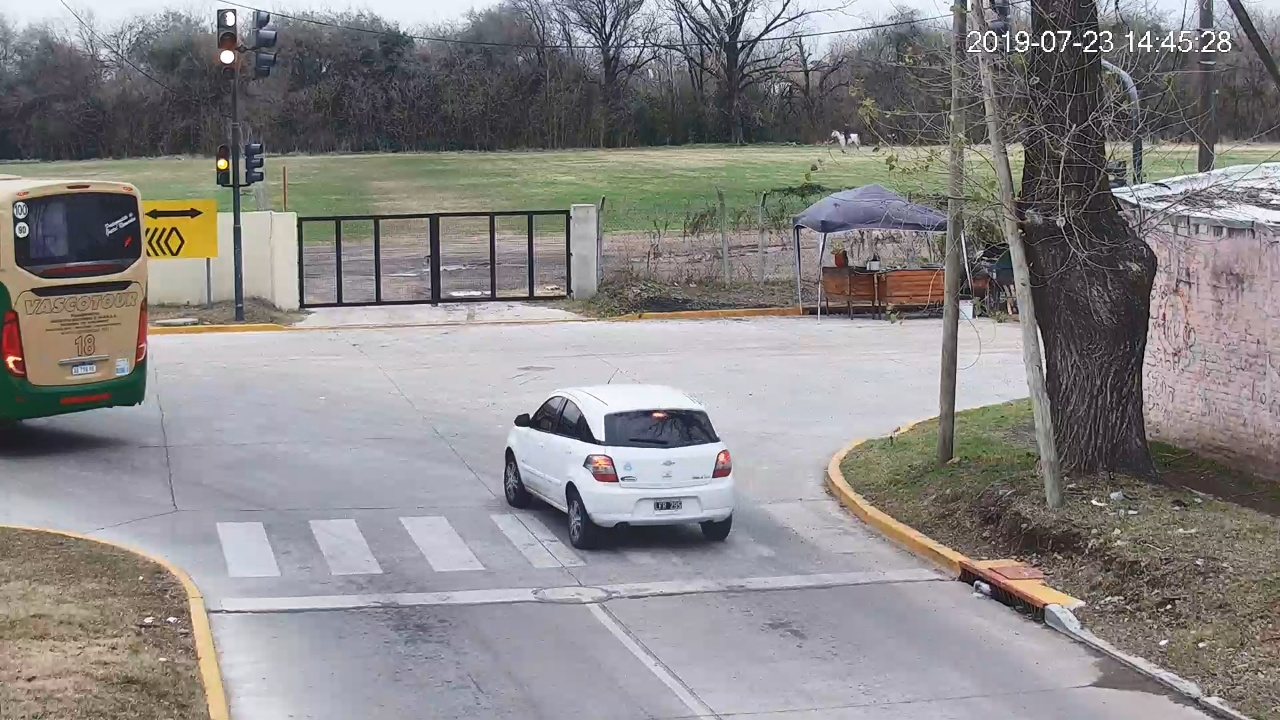car: (504, 384, 733, 546)
traffic light: (218, 31, 236, 79), (217, 145, 230, 185)
